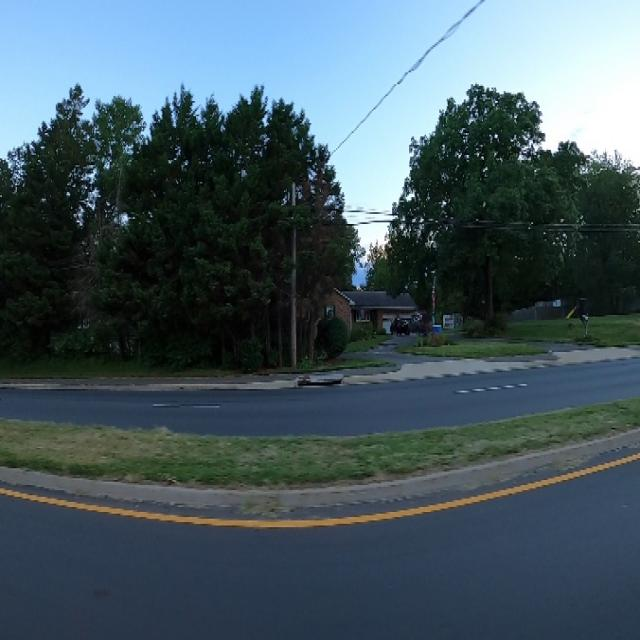cars: (388, 312, 414, 338)
